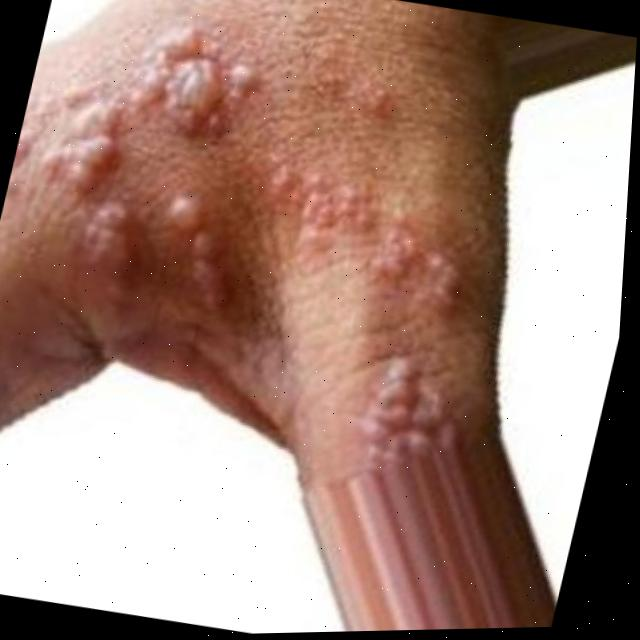Shingles: (0, 0, 565, 368), (349, 351, 473, 460)
